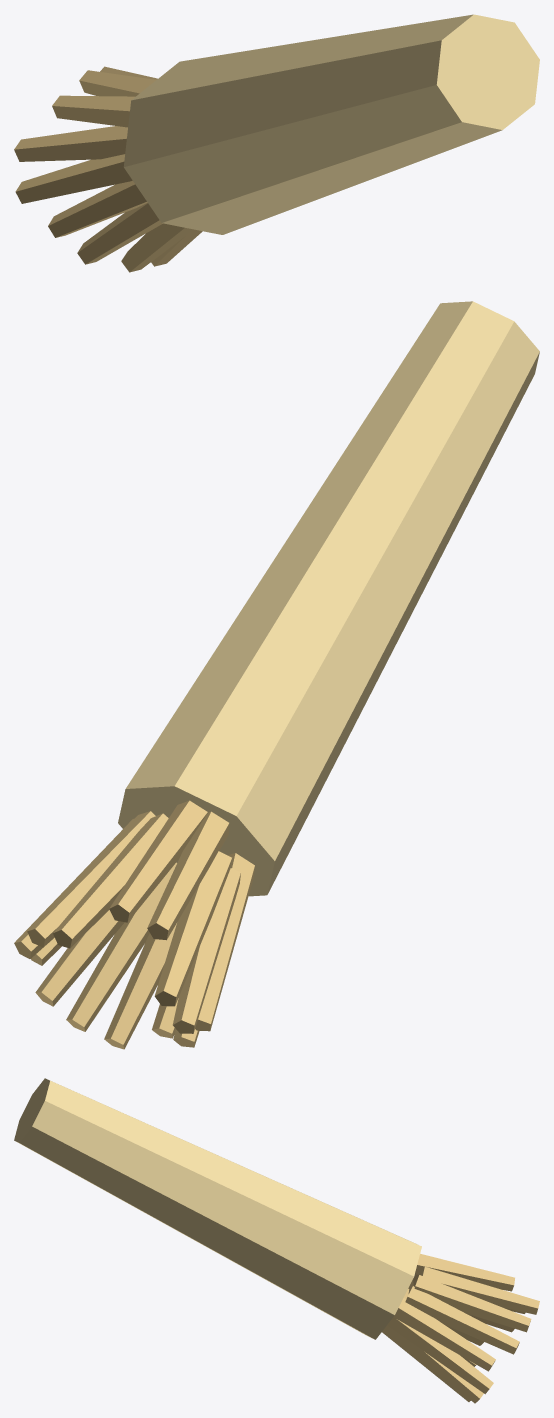
File: load_sheaf.glb
3 renders of one model, top to bottom at view 1: azimuth 30°, elevation 25°; view 2: azimuth 150°, elevation 25°; view 3: azimuth 270°, elevation 25°, orthographic. The views are drawn at different scales.
Visible parts, largest first — view 1: Goods.Sheaf, Goods.Sheaf.Ear#2, Goods.Sheaf.Ear, Goods.Sheaf.Ear#14, Goods.Sheaf.Ear#13, Goods.Sheaf.Ear#3, Goods.Sheaf.Ear#12, Goods.Sheaf.Ear#4, Goods.Sheaf.Ear#11; view 2: Goods.Sheaf, Goods.Sheaf.Ear#2, Goods.Sheaf.Ear#10, Goods.Sheaf.Ear#4, Goods.Sheaf.Ear#3, Goods.Sheaf.Ear#5, Goods.Sheaf.Ear, Goods.Sheaf.Ear#11, Goods.Sheaf.Ear#6, Goods.Sheaf.Ear#9, Goods.Sheaf.Ear#14; view 3: Goods.Sheaf, Goods.Sheaf.Ear#7, Goods.Sheaf.Ear#6, Goods.Sheaf.Ear#8, Goods.Sheaf.Ear#9, Goods.Sheaf.Ear#5, Goods.Sheaf.Ear#4, Goods.Sheaf.Ear#10.
Part boxes in pixels (x1,y1,x2,y2): Goods.Sheaf: (123, 14, 539, 234); Goods.Sheaf.Ear#2: (14, 126, 127, 161); Goods.Sheaf.Ear: (15, 154, 132, 203); Goods.Sheaf.Ear#14: (48, 180, 147, 237); Goods.Sheaf.Ear#13: (77, 203, 162, 264); Goods.Sheaf.Ear#3: (52, 95, 135, 127); Goods.Sheaf.Ear#12: (121, 223, 193, 272); Goods.Sheaf.Ear#4: (79, 70, 155, 96); Goods.Sheaf.Ear#11: (151, 229, 202, 266); Goods.Sheaf: (118, 301, 539, 896); Goods.Sheaf.Ear#2: (154, 851, 231, 1006); Goods.Sheaf.Ear#10: (66, 862, 176, 1031); Goods.Sheaf.Ear#4: (109, 800, 207, 922); Goods.Sheaf.Ear#3: (147, 811, 229, 940); Goods.Sheaf.Ear#5: (53, 813, 168, 948); Goods.Sheaf.Ear: (172, 868, 240, 1033); Goods.Sheaf.Ear#11: (104, 923, 176, 1049); Goods.Sheaf.Ear#6: (27, 811, 155, 947); Goods.Sheaf.Ear#9: (35, 910, 124, 1006); Goods.Sheaf.Ear#14: (195, 853, 254, 1031); Goods.Sheaf: (14, 1078, 421, 1339); Goods.Sheaf.Ear#7: (405, 1286, 519, 1354); Goods.Sheaf.Ear#6: (414, 1275, 531, 1332); Goods.Sheaf.Ear#8: (393, 1298, 495, 1371); Goods.Sheaf.Ear#9: (387, 1317, 493, 1394); Goods.Sheaf.Ear#5: (421, 1266, 539, 1314); Goods.Sheaf.Ear#4: (415, 1254, 514, 1291); Goods.Sheaf.Ear#10: (383, 1325, 483, 1403).
Size of the model in its own units: 0.178 by 0.461 by 0.6988.
